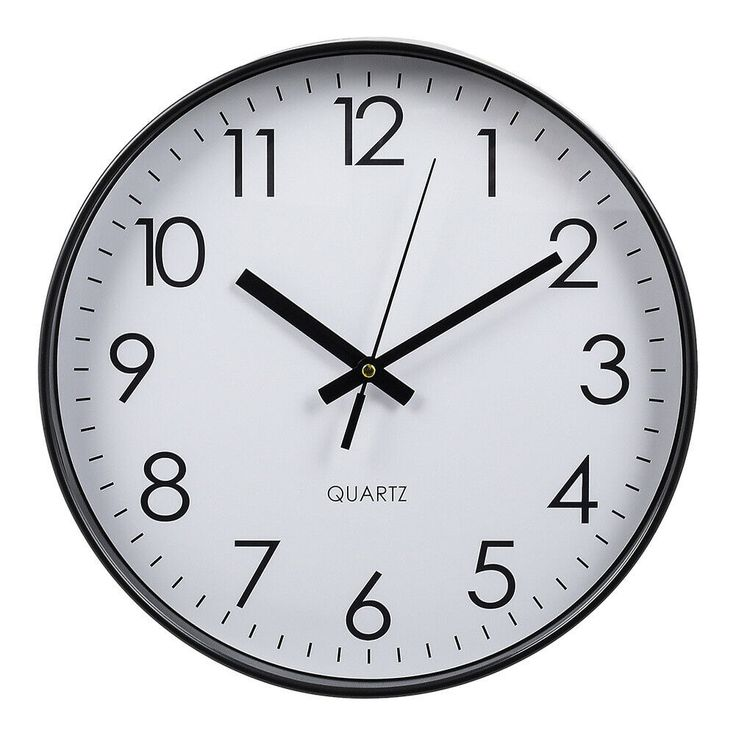clock: (18, 8, 736, 719)
